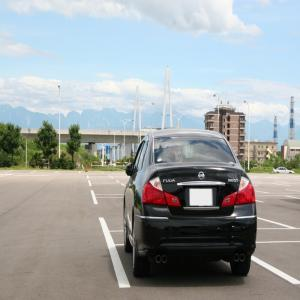Vehicle-registration-plate: (190, 188, 214, 207)
